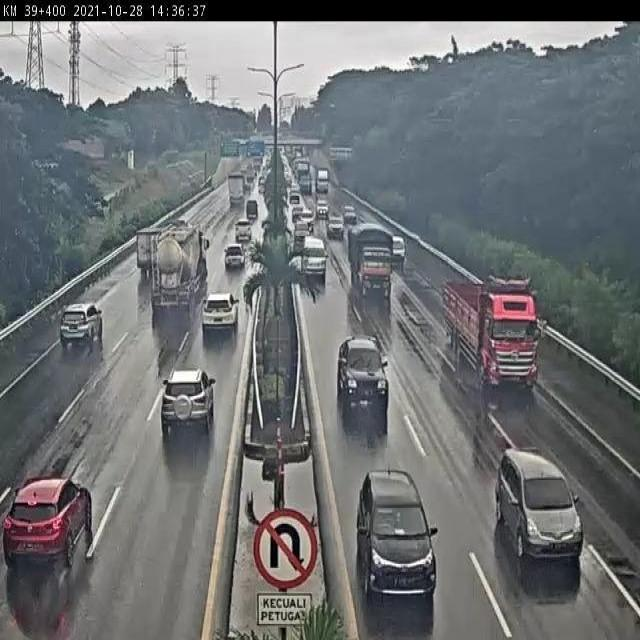truck-m-: (441, 269, 533, 388), (349, 220, 397, 297)
truck-xl-: (153, 228, 208, 313)
